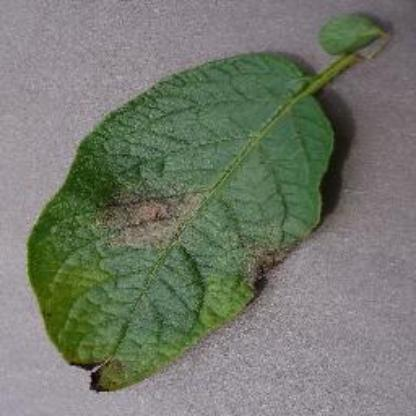Late-Blight: (15, 14, 387, 392)
